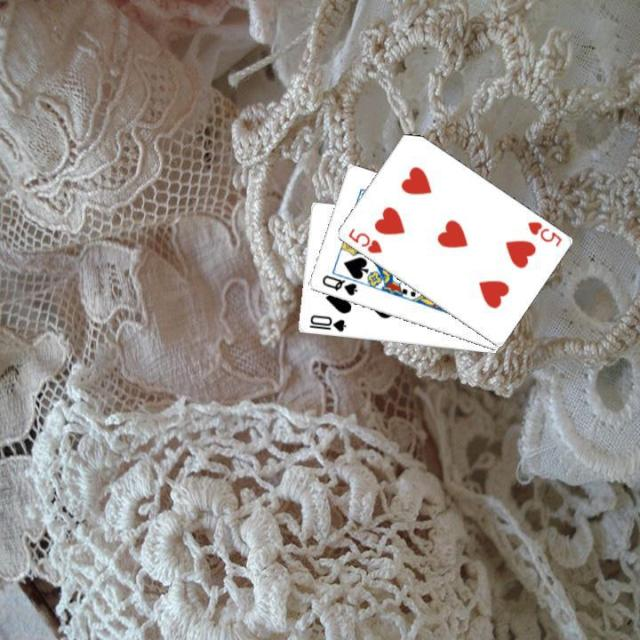10S: (305, 311, 347, 334)
5H: (522, 218, 564, 249), (344, 224, 383, 255)
QS: (317, 271, 359, 298)
